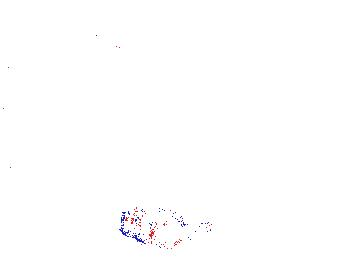X-ray fish: (113, 205, 204, 248), (23, 100, 39, 137)
